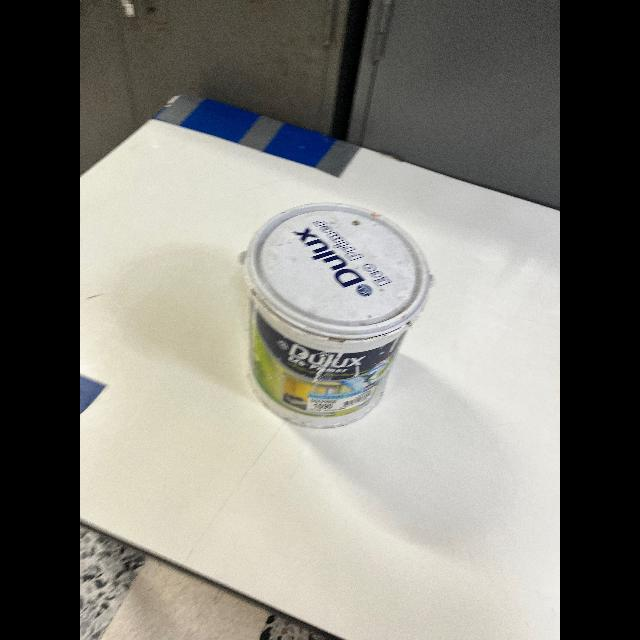paint_bucket: (228, 184, 440, 430)
